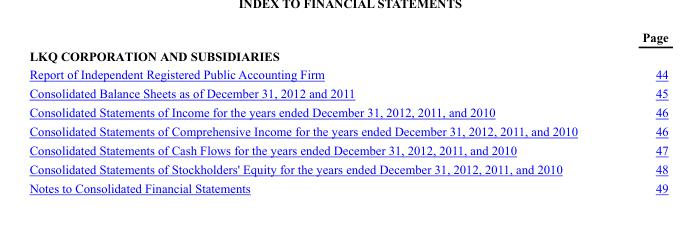table: (28, 29, 667, 194)
table column: (28, 29, 609, 194), (609, 29, 667, 194)
table column header: (28, 29, 667, 45)
table projected row header: (28, 45, 667, 64)
table row: (28, 45, 667, 64), (28, 64, 667, 83), (28, 83, 667, 102), (28, 102, 667, 121), (28, 121, 667, 140), (28, 140, 667, 159), (28, 159, 667, 178), (28, 29, 667, 45), (28, 178, 667, 194)
